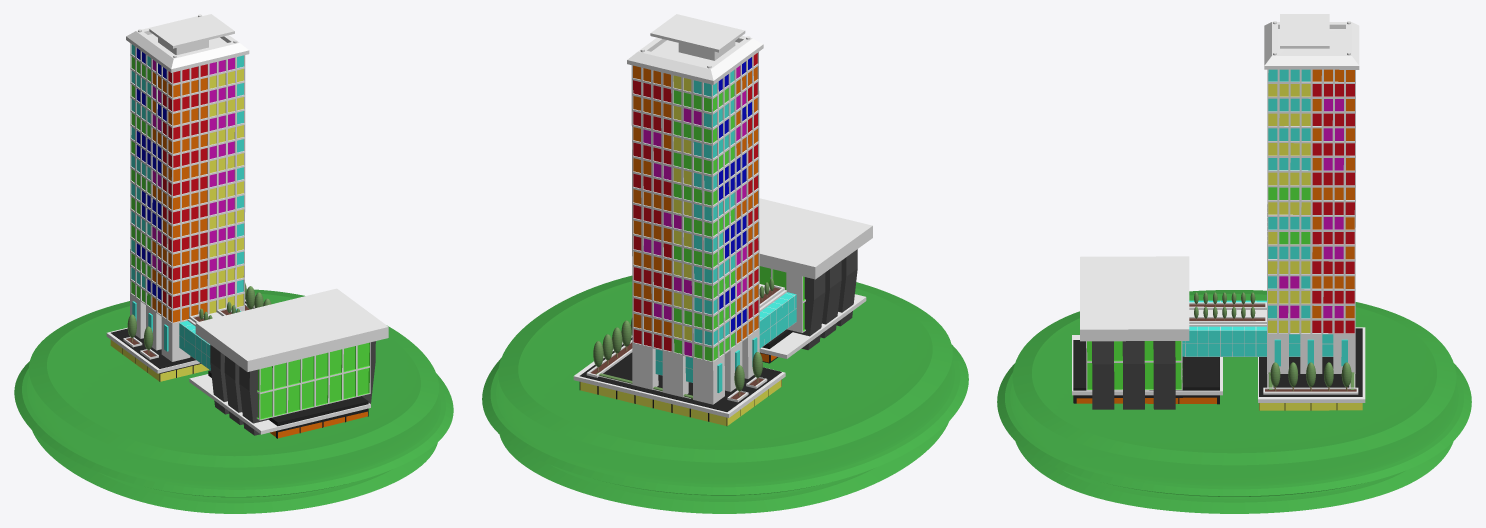
The model's file is building.glb.
3 views of the same model, side by side, from view 1: azimuth 30°, elevation 25°; view 2: azimuth 150°, elevation 25°; view 3: azimuth 270°, elevation 25° (orthographic). The views are drawn at different scales.
Visible parts, largest first — view 1: land_tile_1; view 2: land_tile_1; view 3: land_tile_1.
Part boxes in pixels (left/top/right/bottom): land_tile_1: left=14, top=14, right=453, bottom=513; land_tile_1: left=482, top=14, right=968, bottom=513; land_tile_1: left=997, top=14, right=1471, bottom=513.
Bounding box in the file's own units: 63.63 × 62.27 × 67.63.
